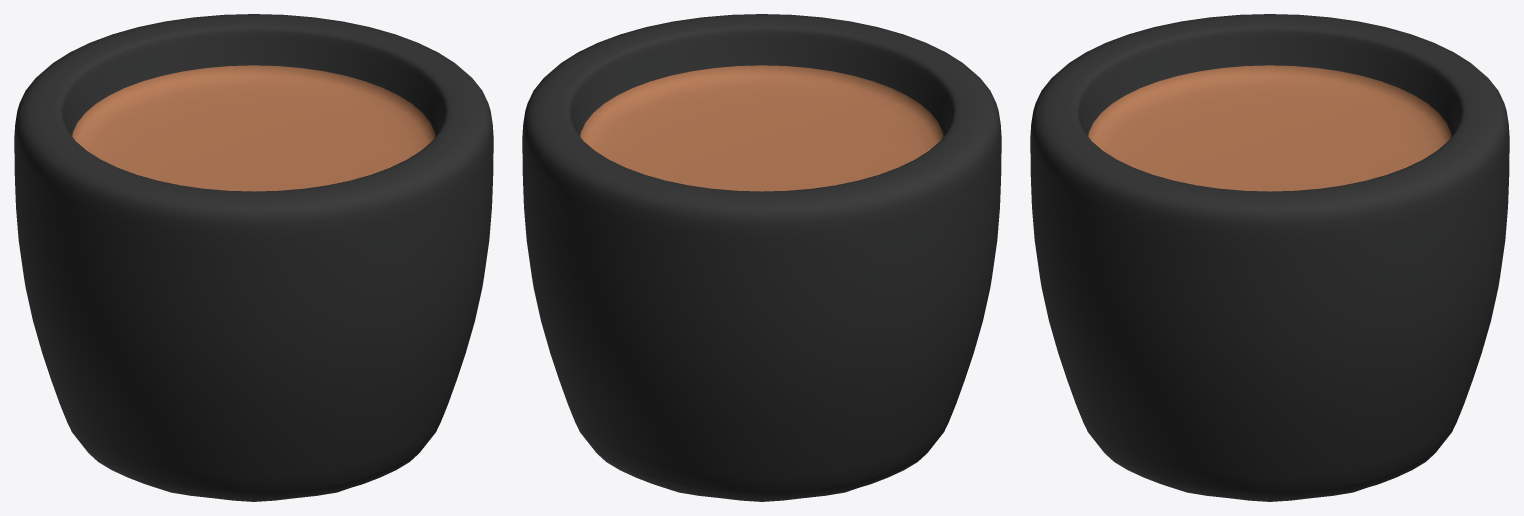
The model's file is flowerpot_2.glb.
3 views of the same model, side by side, from view 1: azimuth 30°, elevation 25°; view 2: azimuth 150°, elevation 25°; view 3: azimuth 270°, elevation 25° (orthographic).
Parts seen in each view (by area): view 1: pot; view 2: pot; view 3: pot.
Boxes of the visible parts, x1=… form: pot: x1=14, y1=14, x2=493, y2=501; pot: x1=522, y1=14, x2=1001, y2=501; pot: x1=1030, y1=14, x2=1509, y2=501.
Size of the model in its own units: 13.52 by 10.41 by 13.52.
